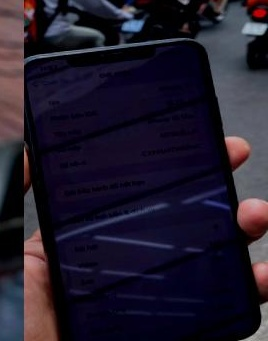screen_defect: (29, 124, 114, 166), (113, 112, 163, 141), (44, 202, 85, 237), (162, 92, 212, 119), (86, 195, 126, 227), (61, 279, 97, 311), (95, 273, 124, 306), (172, 242, 203, 270), (122, 268, 153, 294), (154, 175, 181, 204), (151, 257, 176, 284), (127, 185, 155, 209), (196, 319, 226, 341), (180, 168, 205, 194), (200, 235, 225, 259), (202, 161, 229, 182), (226, 311, 255, 330), (224, 229, 245, 250), (153, 331, 197, 341)
